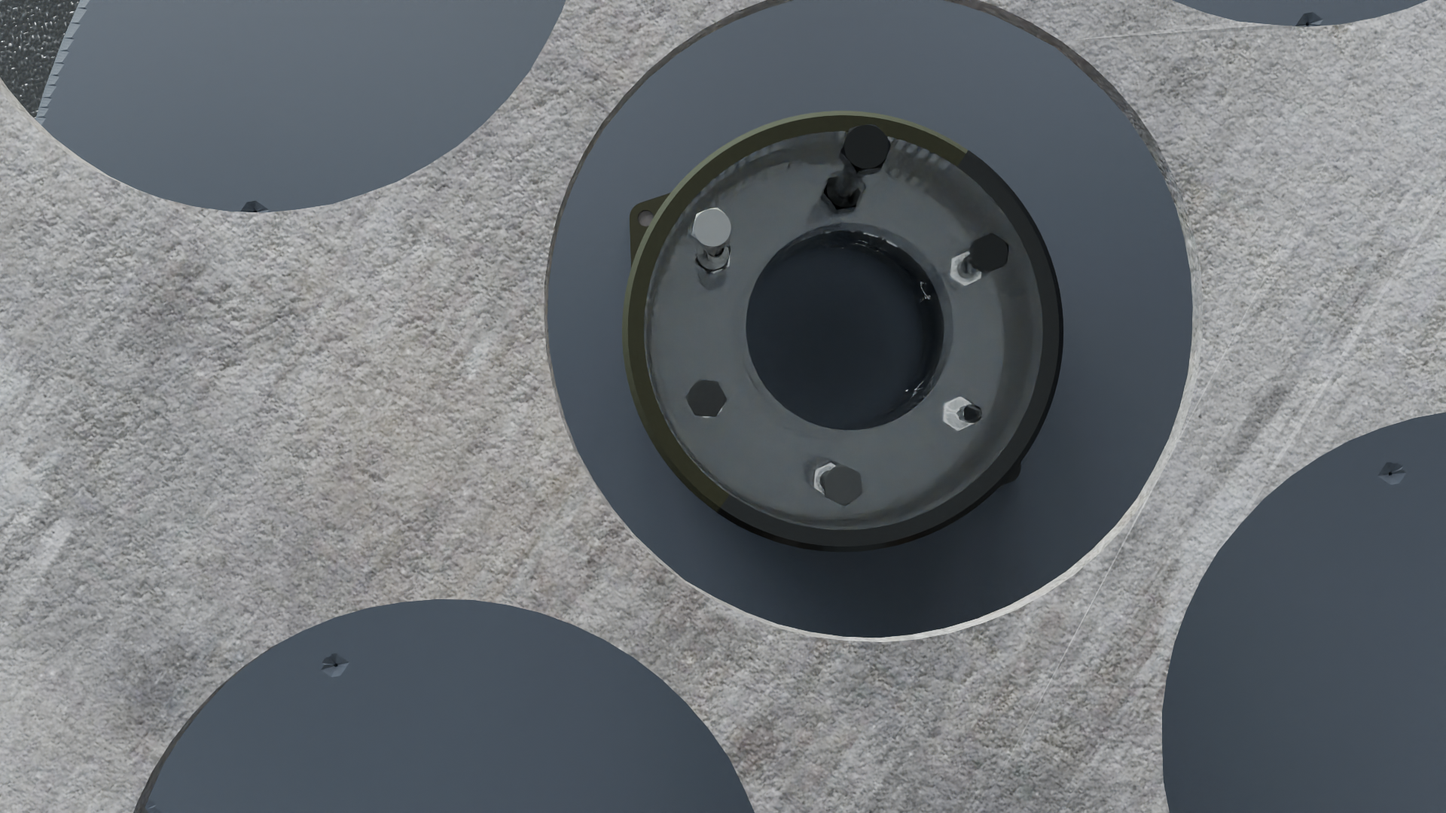bolt: (840, 124, 891, 172), (691, 208, 734, 250), (685, 379, 727, 417), (824, 464, 862, 506), (972, 233, 1009, 273)
